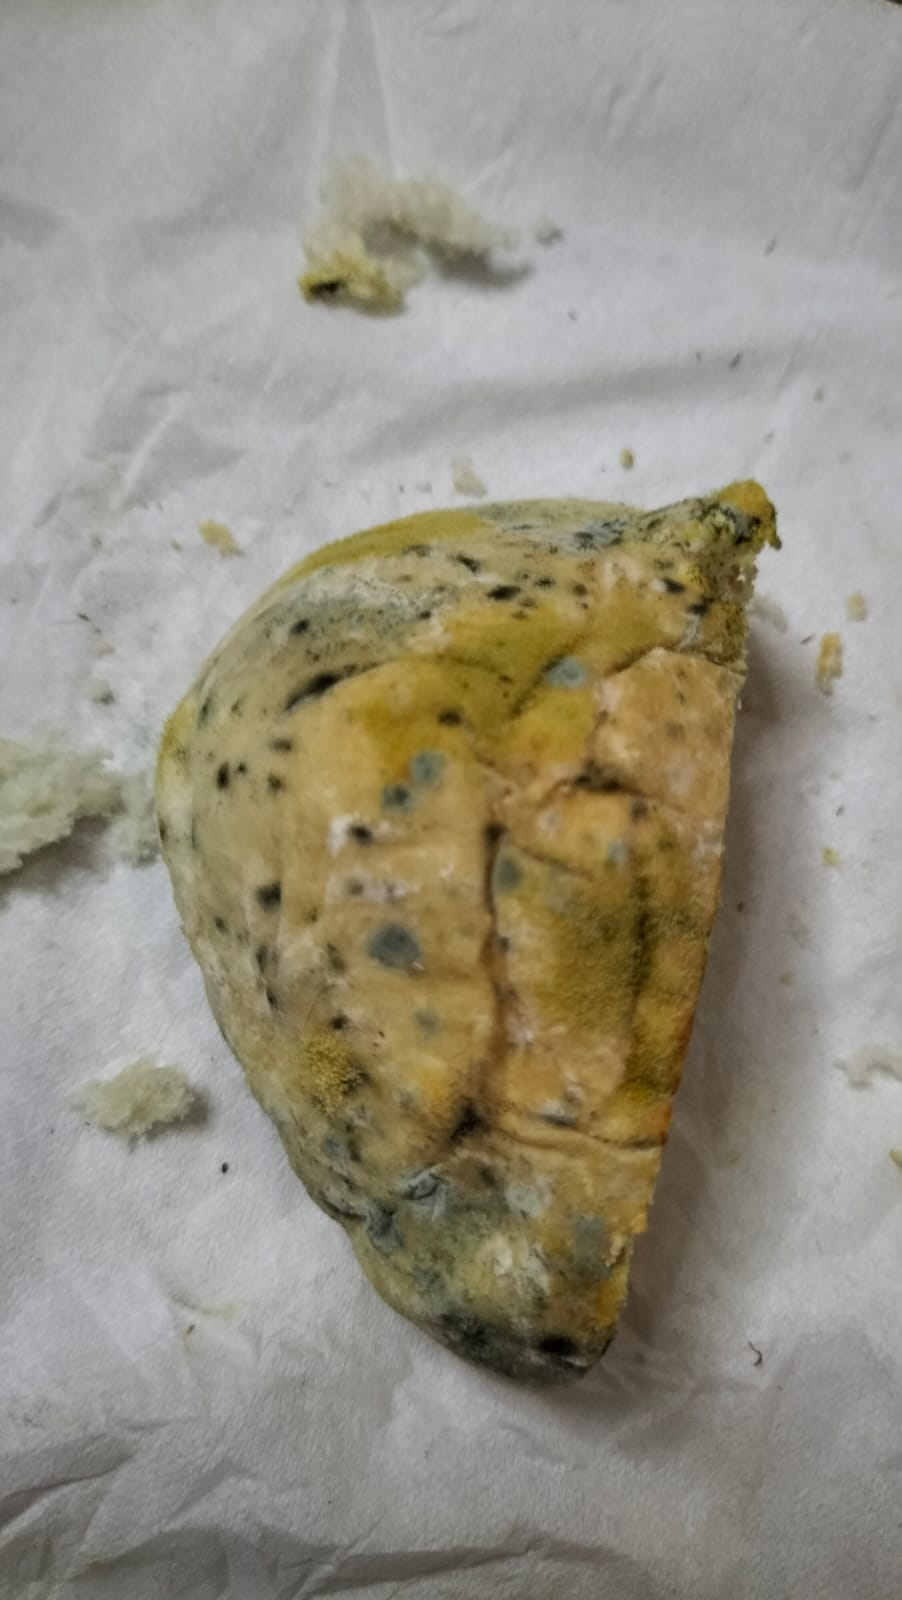mold_bread: (401, 1149, 546, 1248), (301, 1105, 386, 1234), (508, 489, 632, 562), (566, 1210, 632, 1284), (478, 809, 523, 905), (280, 663, 359, 714), (359, 920, 428, 977), (247, 947, 288, 1021), (482, 578, 538, 623), (541, 651, 593, 693), (203, 752, 250, 798), (194, 686, 245, 729), (336, 814, 381, 853), (250, 878, 286, 922), (411, 748, 446, 786), (377, 784, 416, 815), (282, 612, 315, 644), (322, 1009, 356, 1038), (341, 875, 370, 905), (436, 703, 463, 732), (268, 731, 296, 755), (606, 838, 626, 871), (208, 911, 231, 938), (265, 774, 286, 796)
